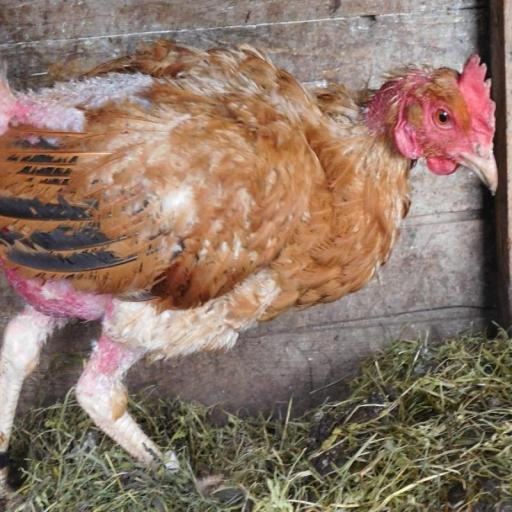disease: (469, 65, 502, 198)
